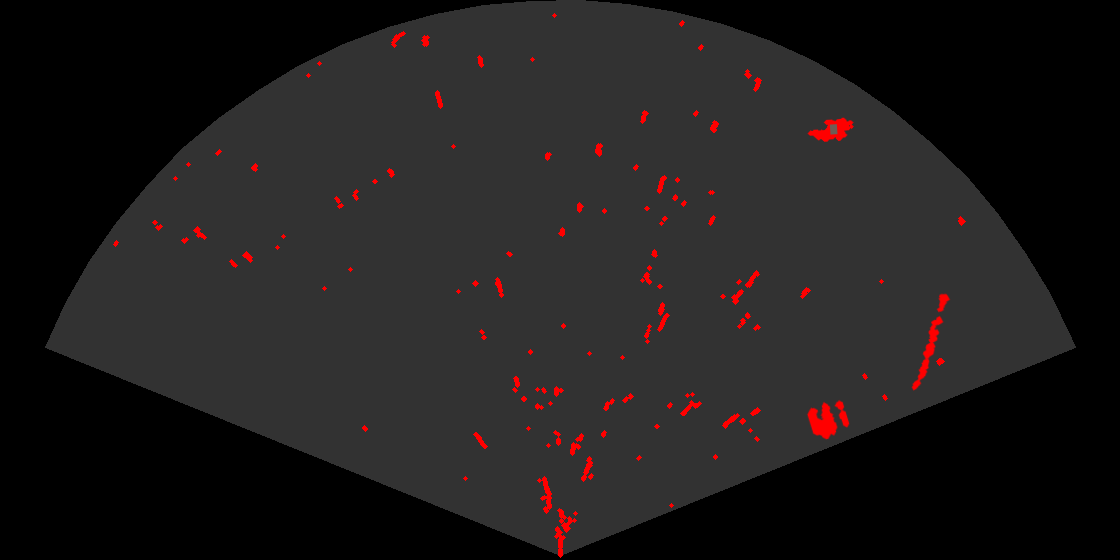AUV: (806, 116, 855, 143)
ball: (805, 398, 851, 441)
chain: (910, 292, 952, 392)
